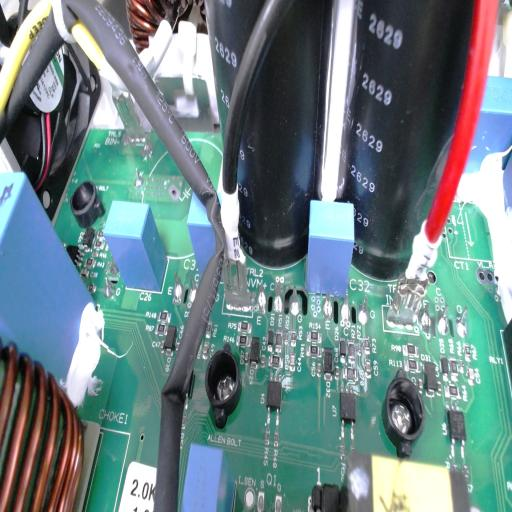pin_group: (318, 279, 371, 334), (418, 293, 472, 346), (256, 266, 304, 322), (168, 259, 204, 314)
solder_ball: (338, 288, 353, 324), (186, 268, 200, 306), (271, 277, 284, 315), (456, 302, 469, 340), (438, 302, 450, 342), (320, 291, 334, 323), (421, 302, 434, 336), (256, 276, 268, 310), (356, 292, 368, 326), (172, 269, 183, 306), (291, 284, 301, 318)
